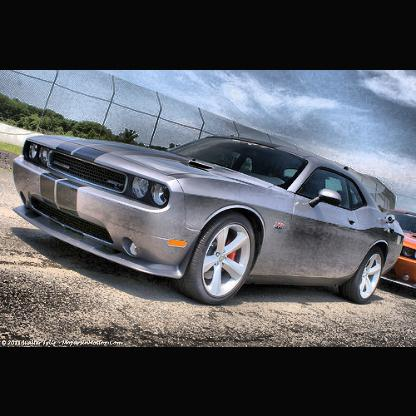Dodge Challenger SRT8 2011: (13, 134, 408, 308)
